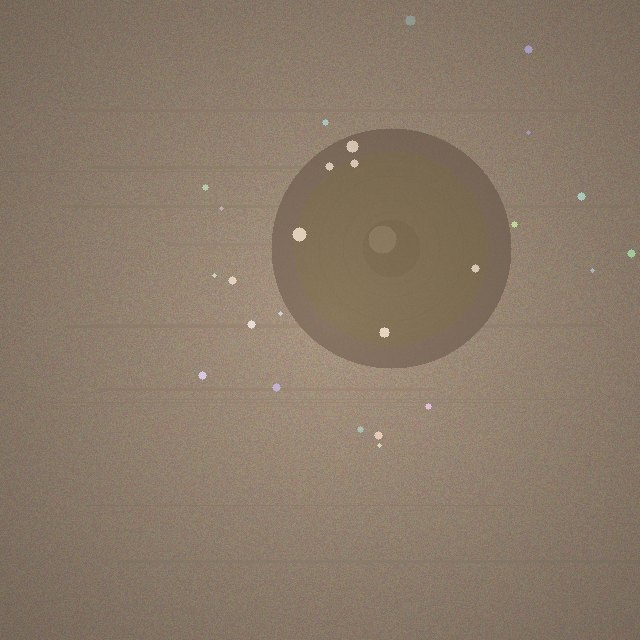overburn: (271, 128, 511, 368)
